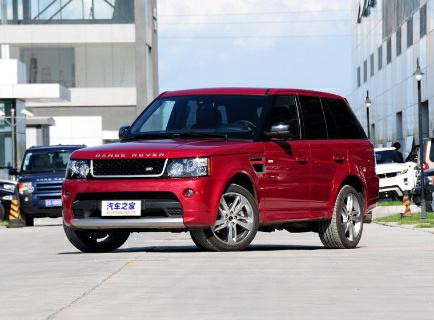路虎-揽胜运动版: (57, 82, 381, 260)
